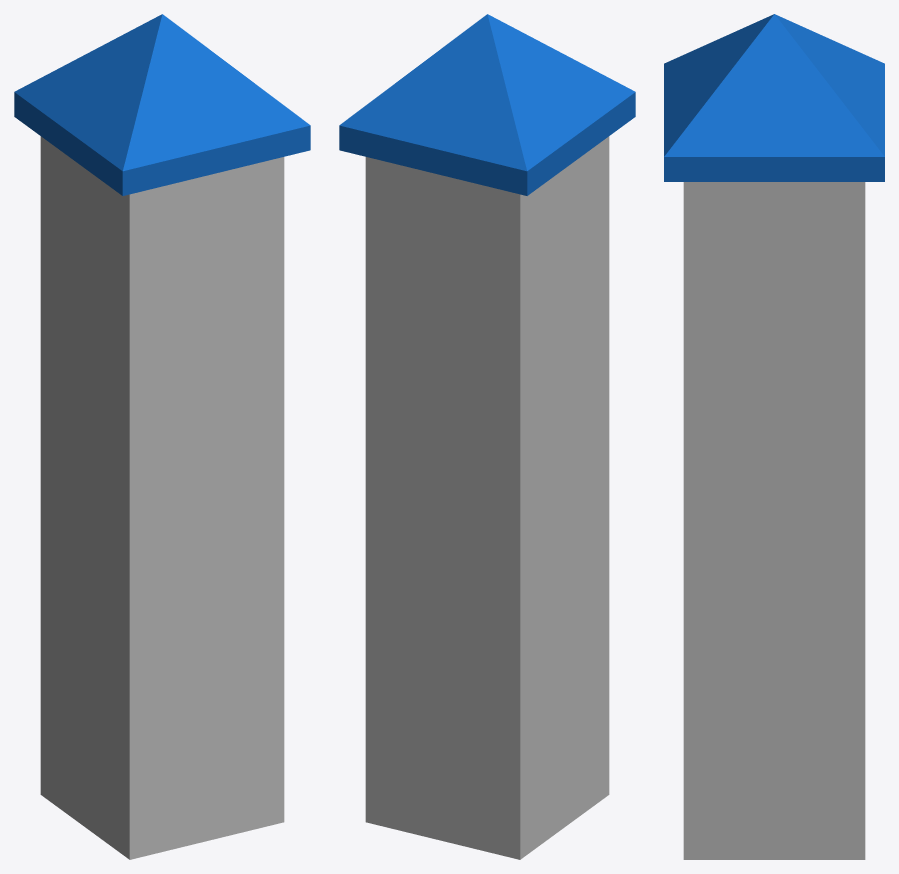
File: SM_fence.fbx
3 renders of one model, left to right at view 1: azimuth 30°, elevation 25°; view 2: azimuth 150°, elevation 25°; view 3: azimuth 270°, elevation 25°, orthographic.
Visible parts, largest first — view 1: Cube_46; view 2: Cube_46; view 3: Cube_46.
Part boxes in pixels (left/top/right/bottom): Cube_46: left=14, top=14, right=310, bottom=859; Cube_46: left=339, top=14, right=635, bottom=859; Cube_46: left=664, top=14, right=884, bottom=859.
Size of the model in its own units: 54.95 by 222 by 54.95.
